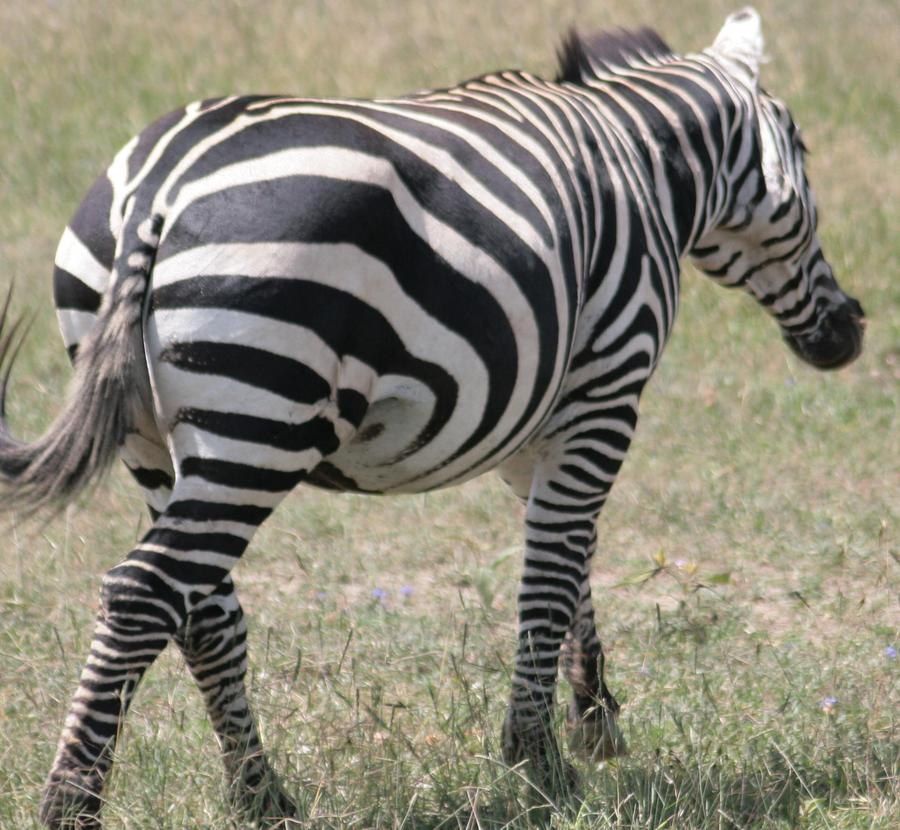zebra_plains: (187, 59, 688, 484)
